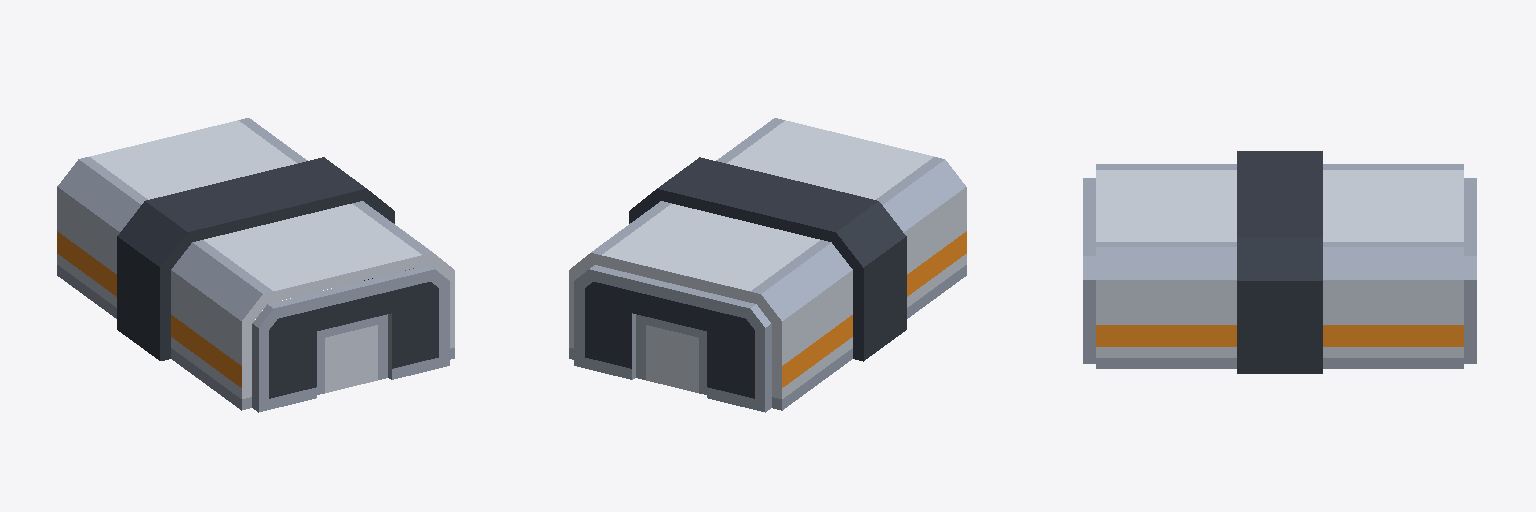
Rendered from hangar_teste1.obj.
3 renders of one model, left to right at view 1: azimuth 30°, elevation 25°; view 2: azimuth 150°, elevation 25°; view 3: azimuth 270°, elevation 25°, orthographic.
Visible parts, largest first — view 1: hangar_largeB, gate.001; view 2: hangar_largeB, gate; view 3: hangar_largeB, gate, gate.001.
Part boxes in pixels (x1,y1,x2,y2): hangar_largeB: (57,118,454,410); gate.001: (252,265,449,412); hangar_largeB: (569,118,966,410); gate: (574,265,771,412); hangar_largeB: (1096,151,1463,373); gate: (1464,178,1476,363); gate.001: (1083,178,1095,363).
Bounding box in the file's own units: 9.24 × 4.62 × 13.44.